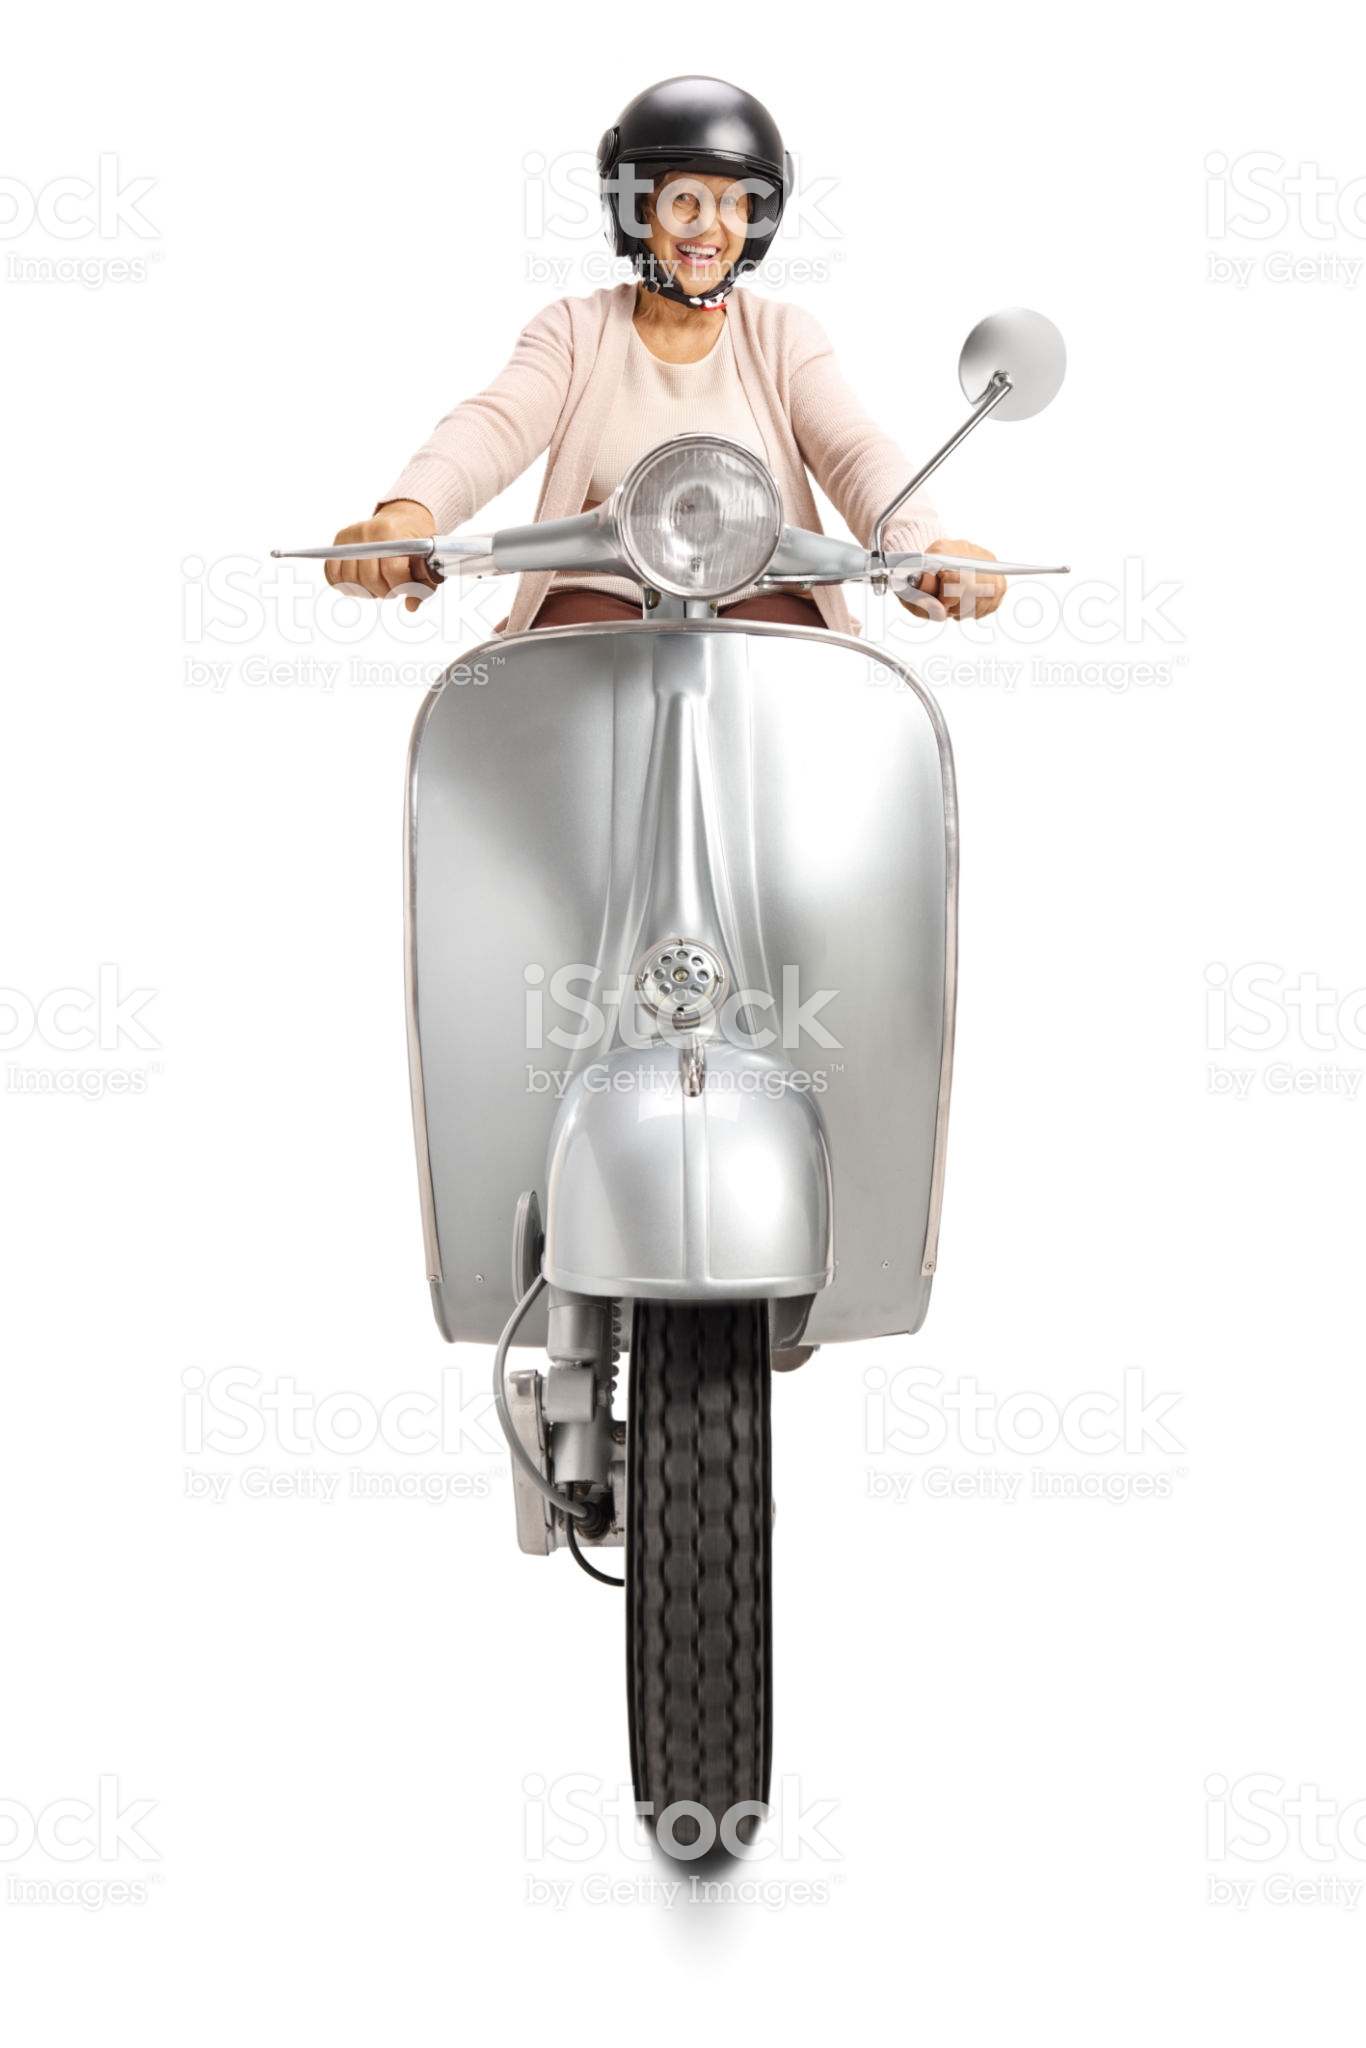helmet: (598, 94, 839, 250)
